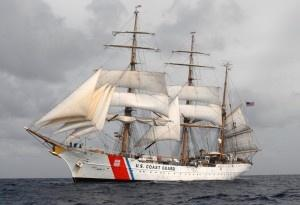fanchuan: (24, 3, 261, 185)
